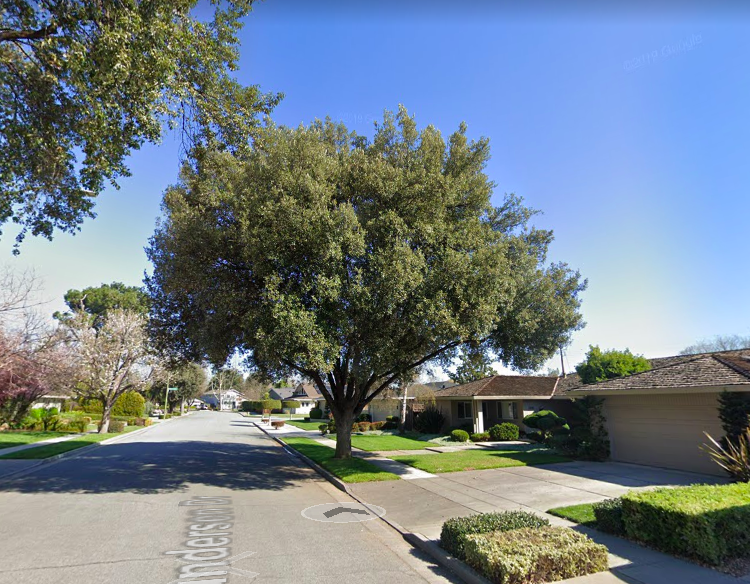tree: (136, 100, 589, 465)
